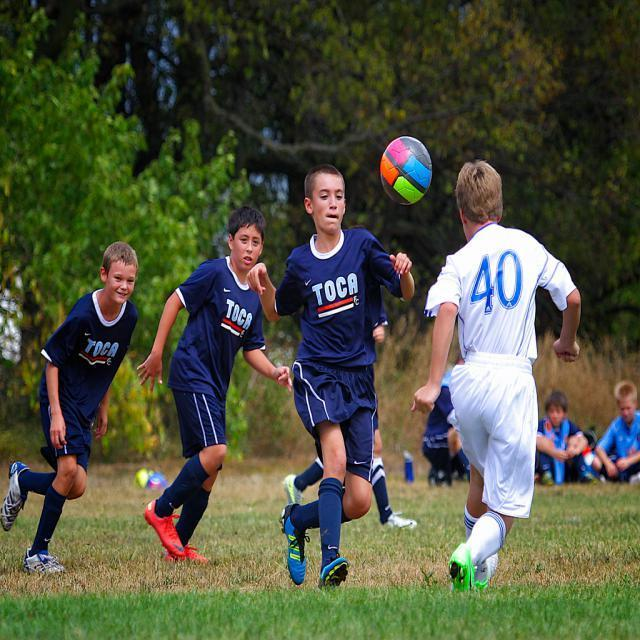football: (366, 115, 435, 227)
